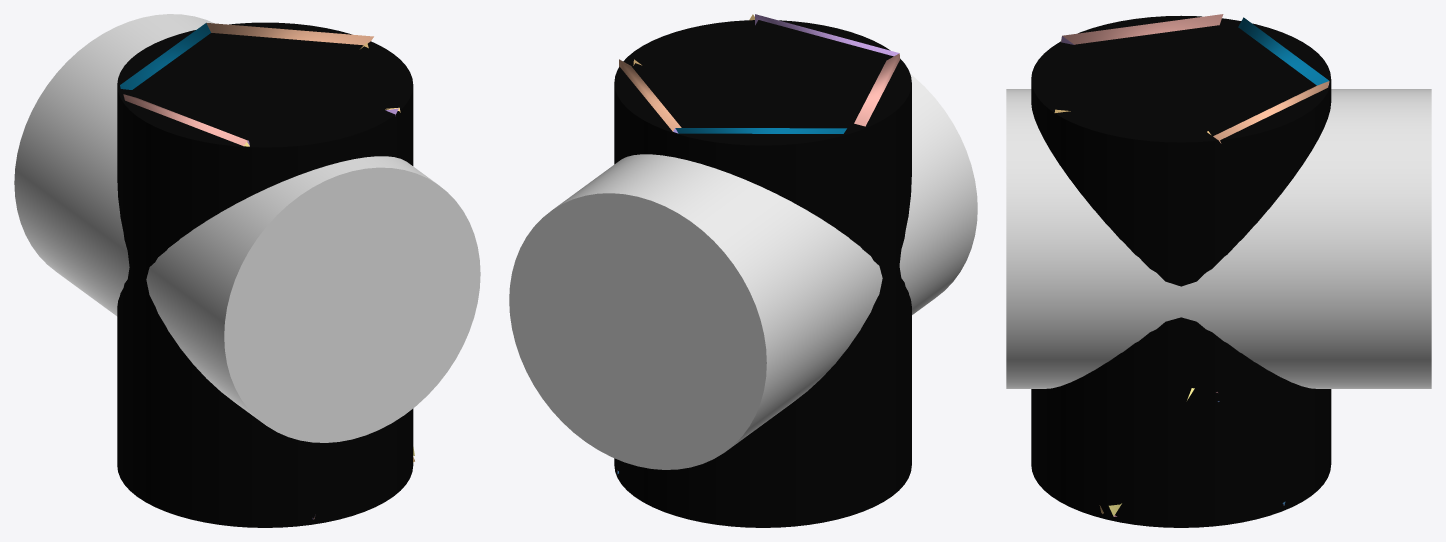
The picture shows the model from 3 angles, left to right: view 1: azimuth 30°, elevation 25°; view 2: azimuth 150°, elevation 25°; view 3: azimuth 270°, elevation 25°; orthographic projection.
Visible parts, largest first — view 1: Renderer Node; view 2: Renderer Node; view 3: Renderer Node.
Part boxes in pixels (x1=…): Renderer Node: x1=14, y1=14, x2=480, y2=527; Renderer Node: x1=509, y1=14, x2=977, y2=527; Renderer Node: x1=1006, y1=14, x2=1431, y2=527.
Bounding box in the file's own units: 1.78 × 2.55 × 2.51.
